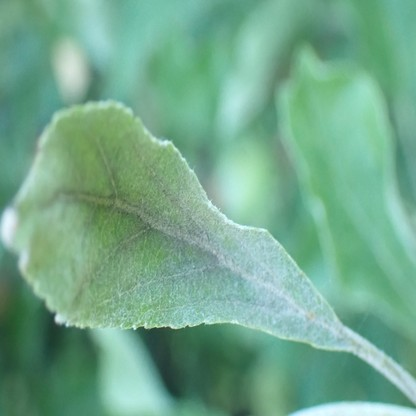powder: (0, 99, 339, 346)
